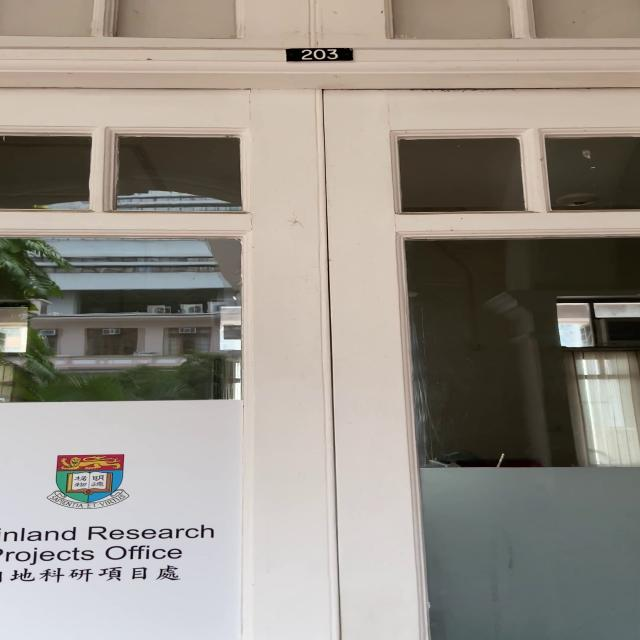room203: (280, 48, 358, 66)
